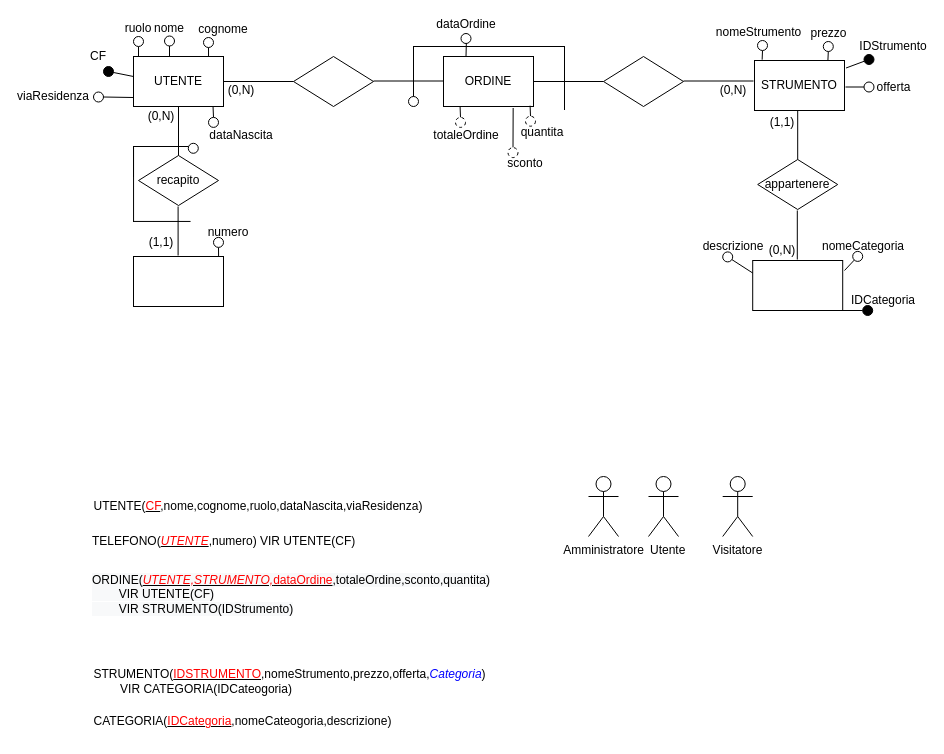
This 944x754 diagram has some shape labels left out. The centre of each missing label's shape, as x and y in pixels:
"CATEGORIA" goes at [797,285].
"R1" goes at [333,81].
"R2" goes at [643,81].
"TELEFONO" goes at [178,281].
